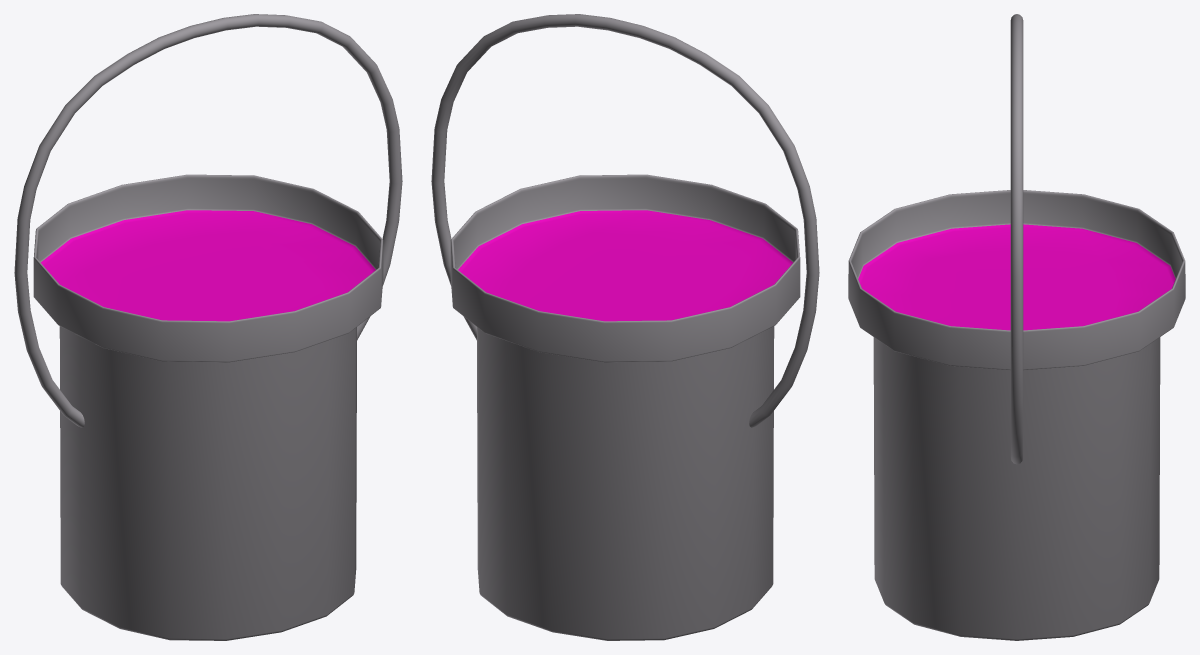
Rendered from CuboPintura.fbx.
3 renders of one model, left to right at view 1: azimuth 30°, elevation 25°; view 2: azimuth 150°, elevation 25°; view 3: azimuth 270°, elevation 25°, orthographic. The views are drawn at different scales.
Visible parts, largest first — view 1: Cube, NurbsPath; view 2: Cube, NurbsPath; view 3: Cube, NurbsPath.
Part boxes in pixels (box(x1,y1,x2,y2)): Cube: box(33, 174, 383, 640); NurbsPath: box(14, 14, 402, 427); Cube: box(450, 174, 800, 640); NurbsPath: box(431, 14, 819, 427); Cube: box(848, 190, 1185, 640); NurbsPath: box(1010, 14, 1023, 464).
Bounding box in the file's own units: 277 × 382 × 216.
